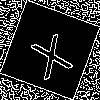X: (25, 25, 74, 80)
